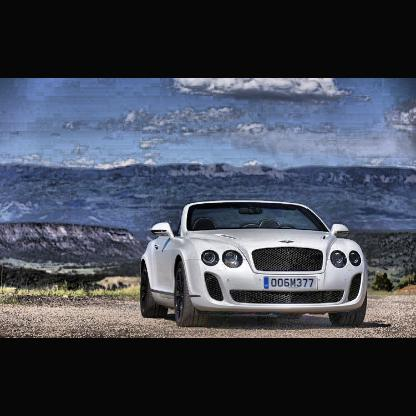Bentley Continental Supersports Conv- Convertible 2012: (141, 200, 367, 324)
